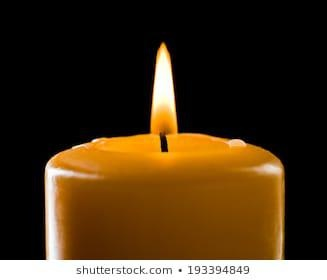fire: (149, 39, 178, 136)
